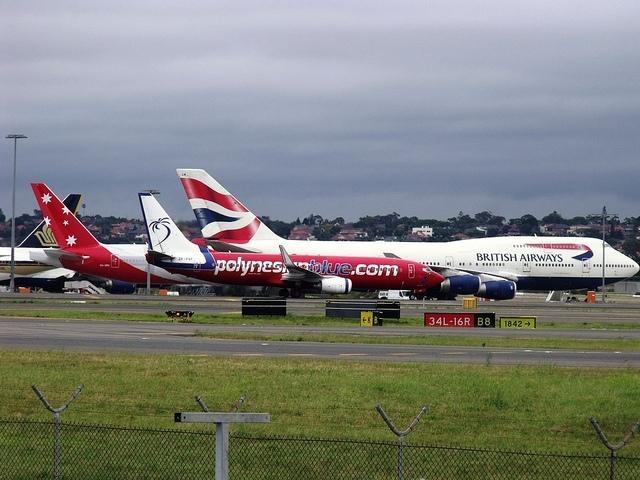truck: (388, 290, 411, 299), (378, 292, 389, 299)
